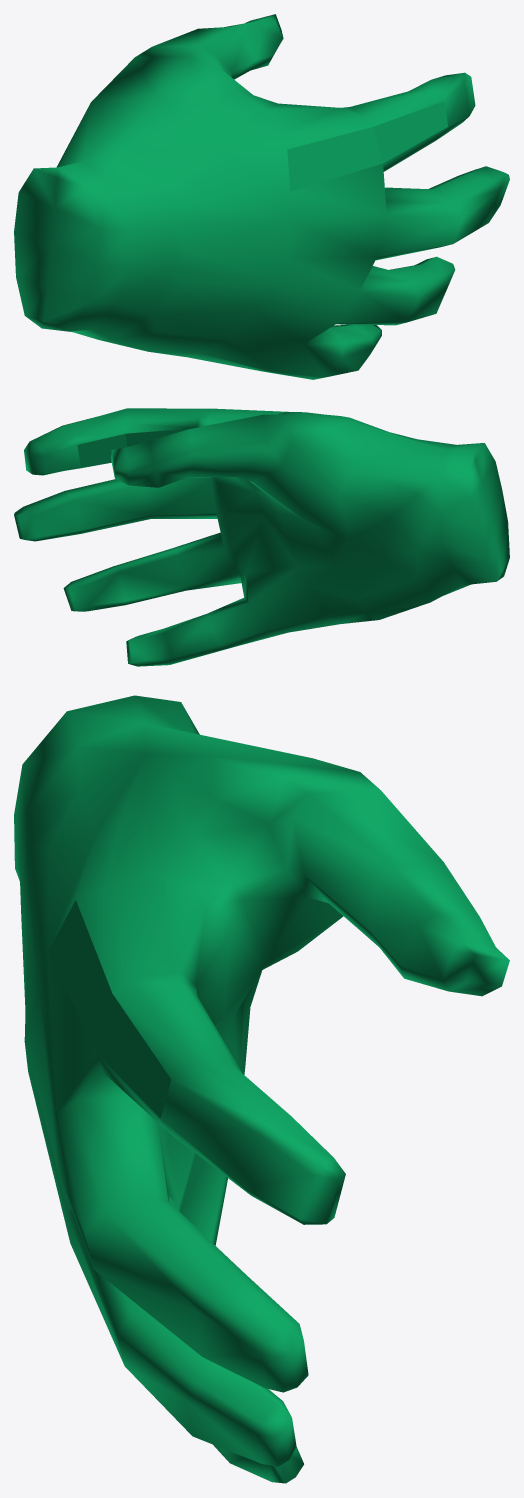
The model's file is bea_right_hand_new.obj.
3 renders of one model, top to bottom at view 1: azimuth 30°, elevation 25°; view 2: azimuth 150°, elevation 25°; view 3: azimuth 270°, elevation 25°, orthographic. The views are drawn at different scales.
Visible parts, largest first — view 1: unityHandR; view 2: unityHandR; view 3: unityHandR.
Part boxes in pixels (x1,y1,x2,y2): unityHandR: (14,14,509,379); unityHandR: (14,408,509,666); unityHandR: (14,695,509,1483).
Bounding box in the file's own units: 0.1978 × 0.1228 × 0.0981.
